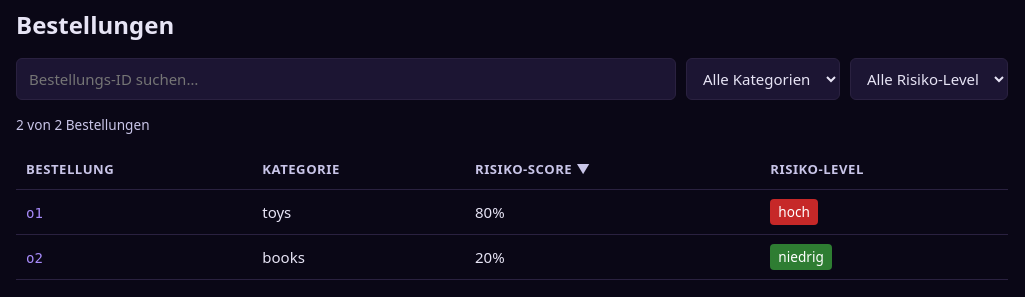
Test: OrderList › zeigt einen Leer-Zustand, wenn kein Ergebnis zu den Filtern passt
Expected: the link "o1" is shown, top-left (26, 205), bottom-right (43, 221)
Type "nichtvorhanden" into the search field labelled "Bestellungs-ID suchen" at (346, 79), box top-left (16, 58), bottom-right (676, 100)
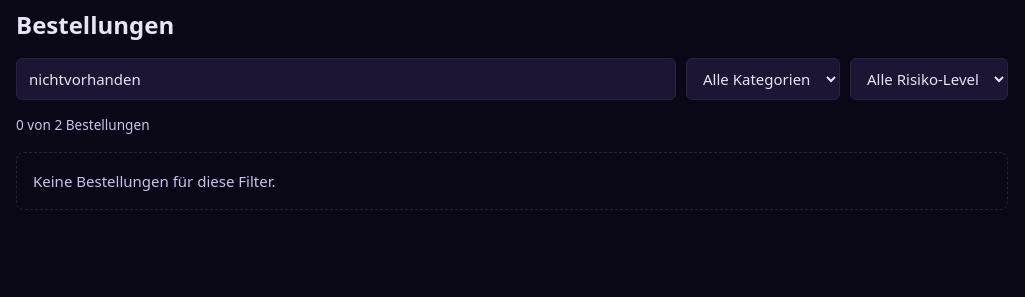
Expected: the text "Keine Bestellungen für diese Filter." is shown, top-left (16, 152), bottom-right (1008, 210)
